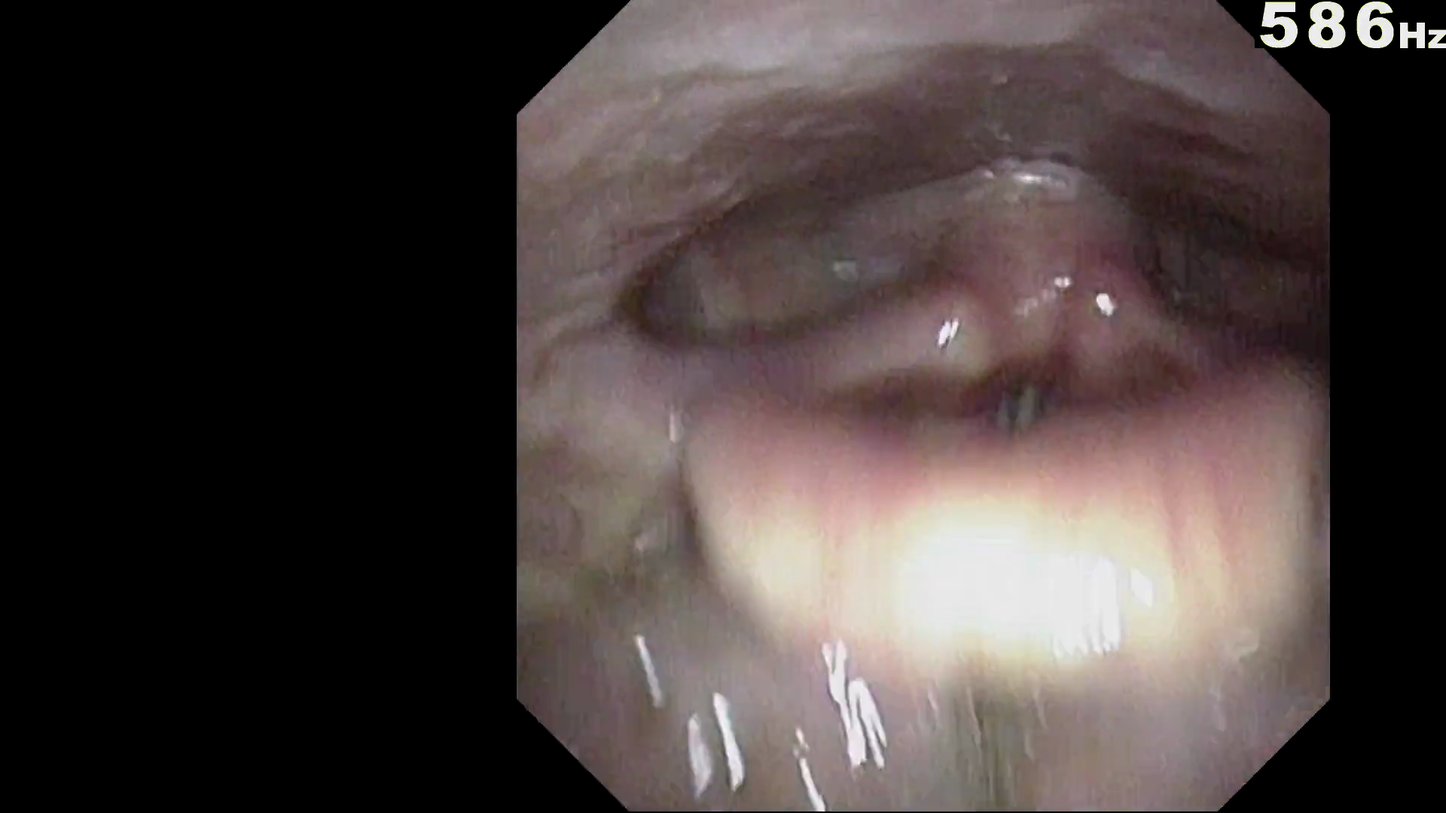epiglottis: (727, 418, 1278, 630)
trachea: (971, 360, 1067, 490)
